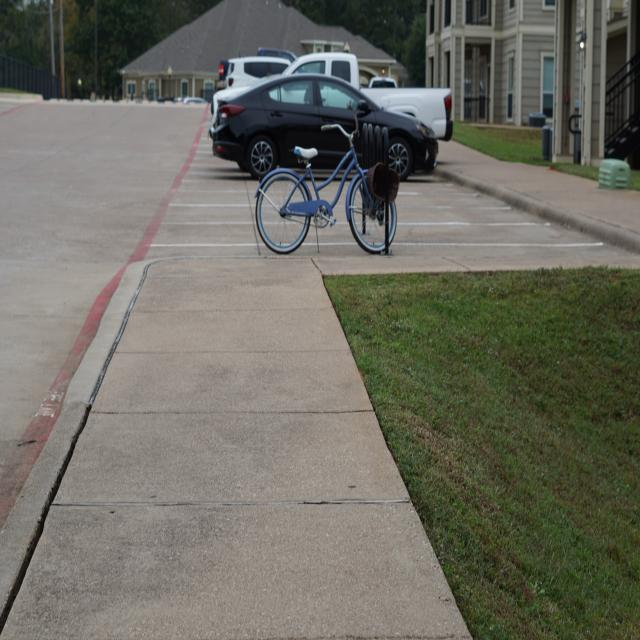Automobile: (210, 48, 452, 180)
Obstacle: (255, 124, 399, 254), (599, 159, 630, 189)
Road: (0, 96, 269, 521), (393, 176, 599, 253), (319, 194, 360, 255)
Sidewalk: (2, 252, 640, 638), (434, 141, 640, 254)
